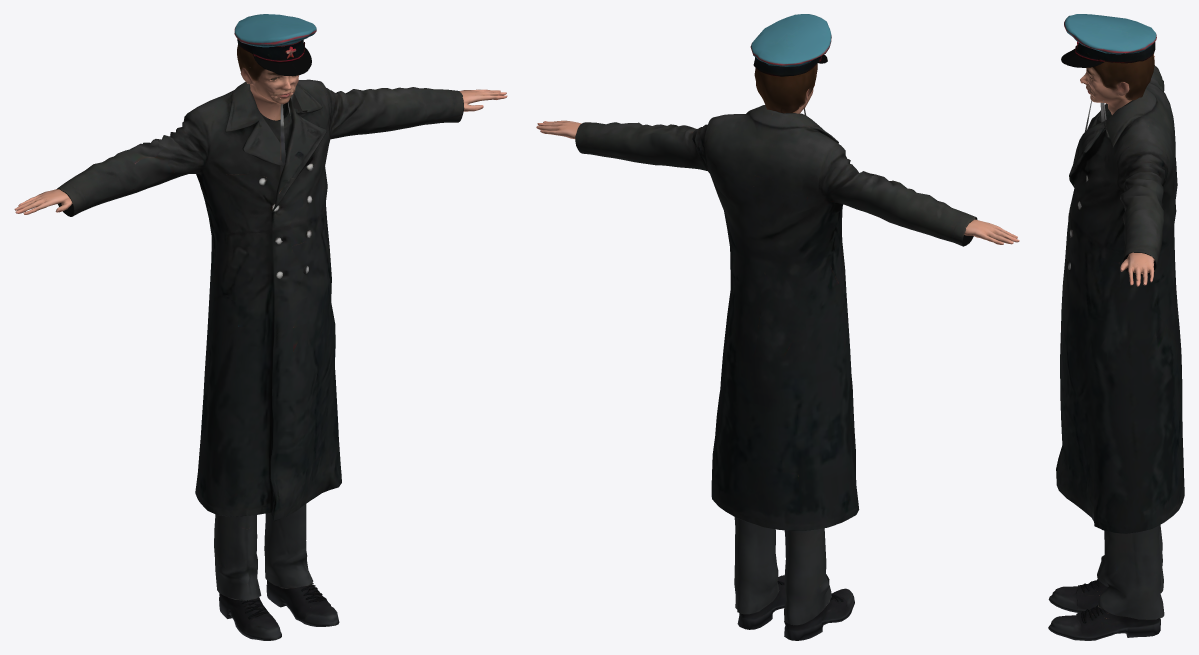
The model's file is com.obj.
The picture shows the model from 3 angles, left to right: view 1: azimuth 30°, elevation 25°; view 2: azimuth 150°, elevation 25°; view 3: azimuth 270°, elevation 25°; orthographic projection. The views are drawn at different scales.
Visible parts, largest first — view 1: mesh_0; view 2: mesh_0; view 3: mesh_0.
Boxes of the visible parts, x1=… form: mesh_0: x1=14, y1=14, x2=507, y2=640; mesh_0: x1=536, y1=14, x2=1019, y2=640; mesh_0: x1=1048, y1=14, x2=1184, y2=640.
Size of the model in its own units: 818 by 951 by 196.
Materials: 1 (1 with a texture image).
